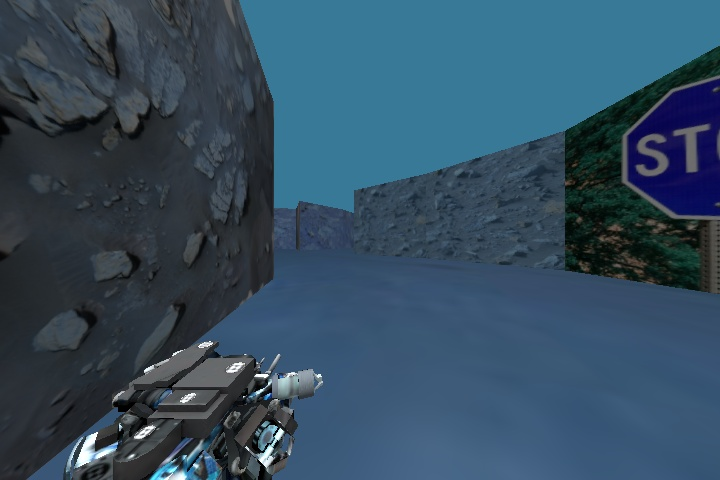stop_sign: (606, 64, 720, 267)
